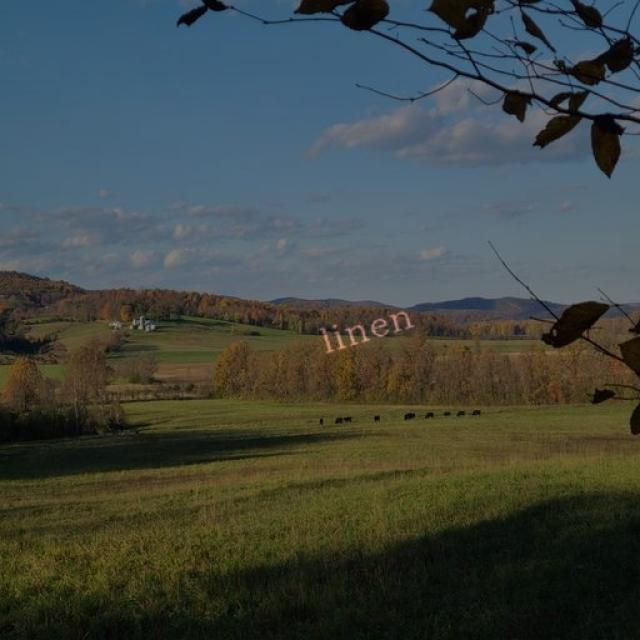watermark: (315, 297, 416, 358)
